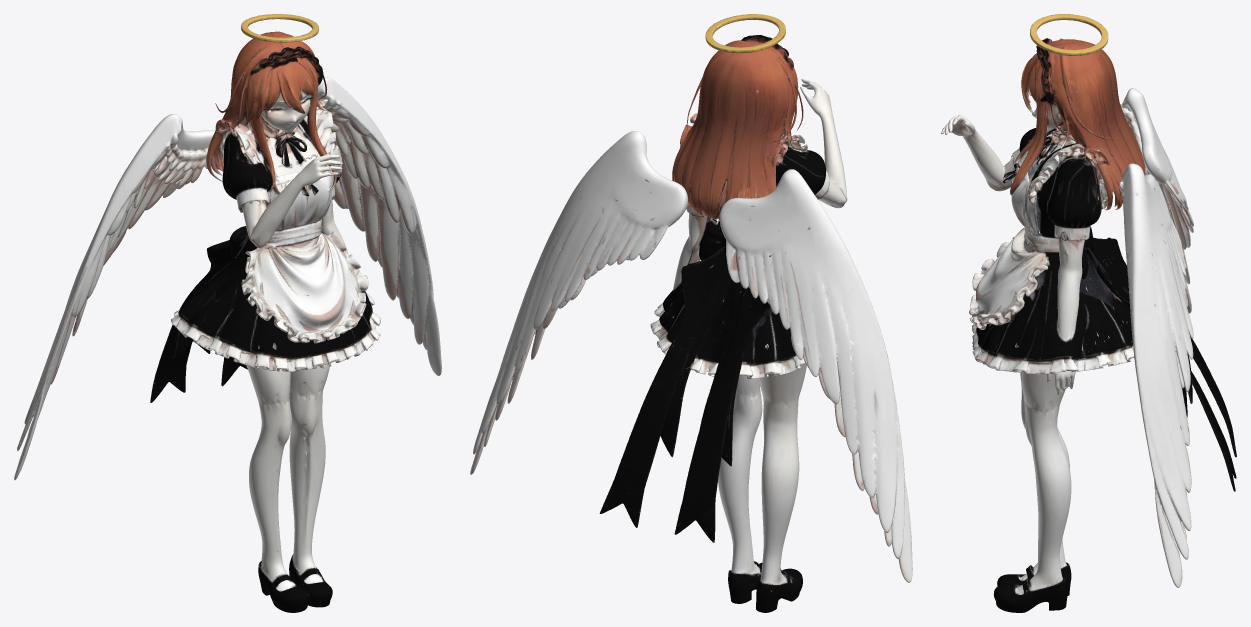
Rendered from angeldevil1.glb.
The picture shows the model from 3 angles, left to right: view 1: azimuth 30°, elevation 25°; view 2: azimuth 150°, elevation 25°; view 3: azimuth 270°, elevation 25°; orthographic projection. The views are drawn at different scales.
Size of the model in its own units: 1.51 by 1.9 by 0.8875.
Materials: 1 (1 with a texture image).
